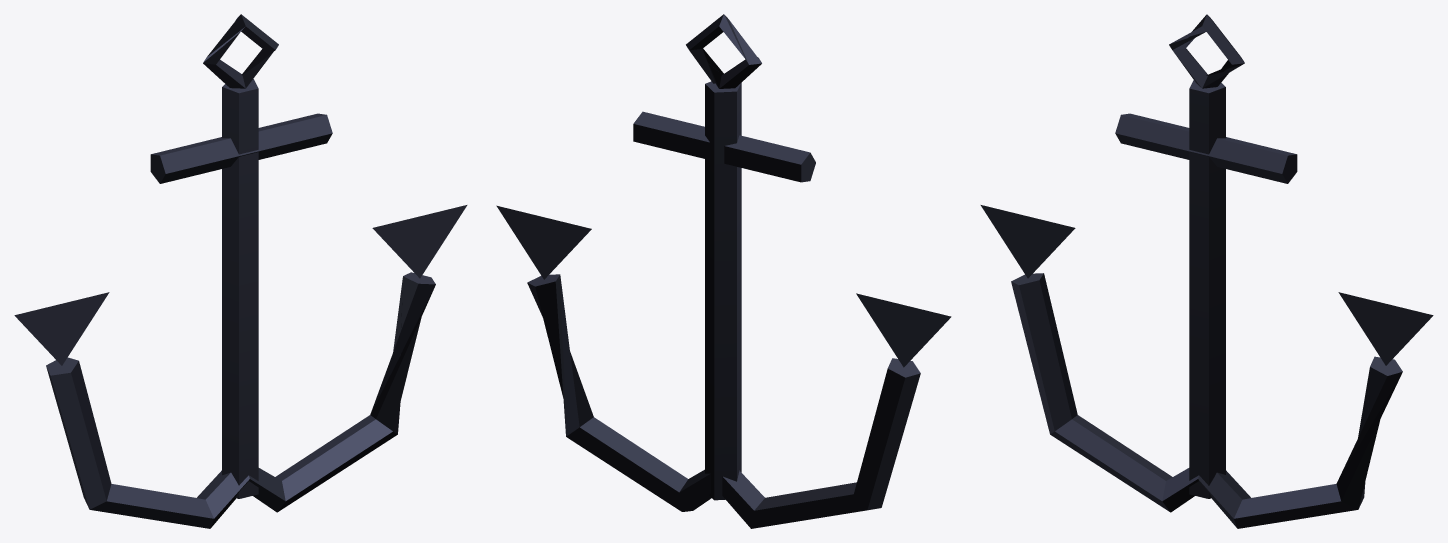
Rendered from anchor.glb.
The picture shows the model from 3 angles, left to right: view 1: azimuth 30°, elevation 25°; view 2: azimuth 150°, elevation 25°; view 3: azimuth 330°, elevation 25°; orthographic projection.
Parts seen in each view (by area): view 1: anchor; view 2: anchor; view 3: anchor.
Part boxes in pixels (x1,y1,x2,y2): anchor: [14, 14, 467, 528]; anchor: [496, 14, 951, 528]; anchor: [980, 14, 1433, 528].
Size of the model in its own units: 0.76 by 0.8084 by 0.054.
